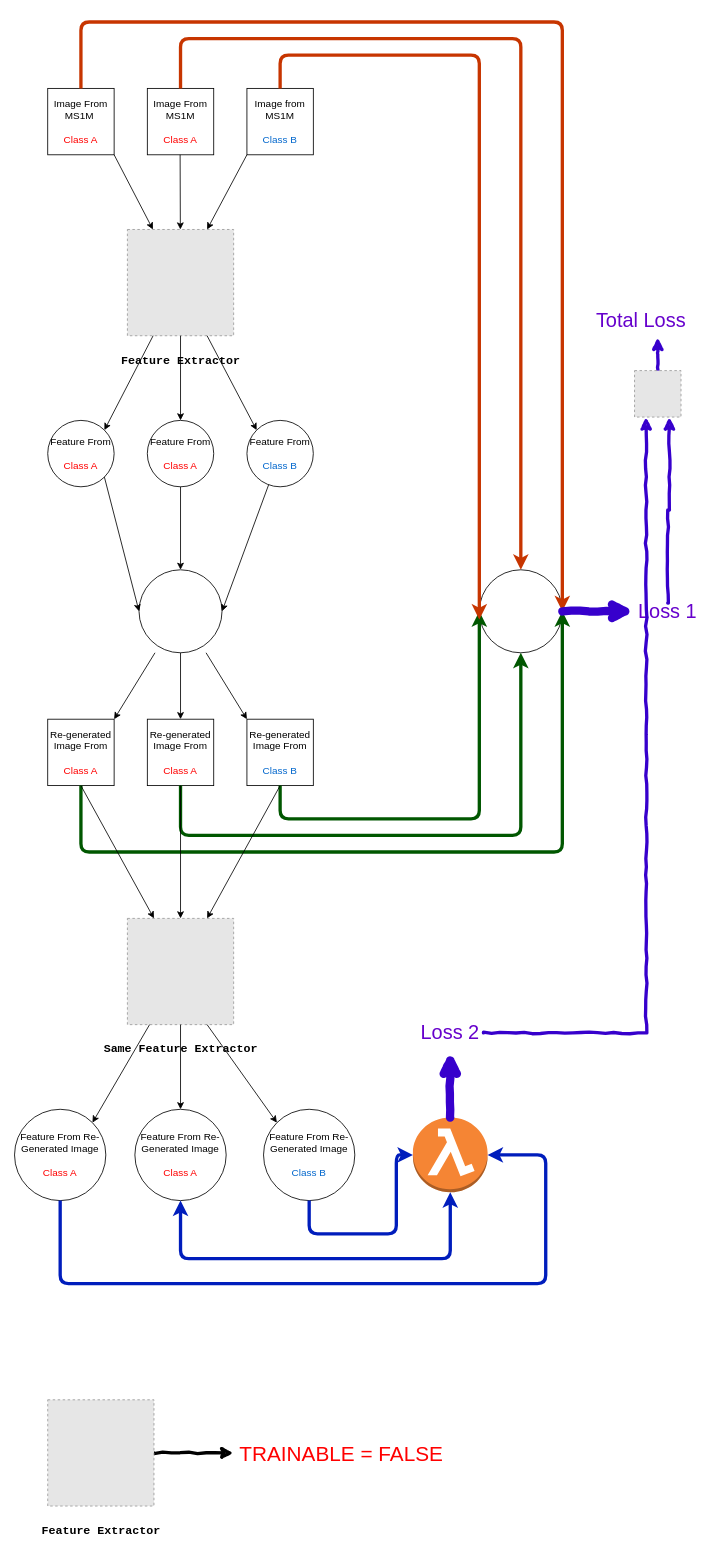
This 715x1564 diagram has some shape labels left out. Grey dashed boxes stand in for pictures. The shapes that lost their labels are listed below. From the top down, each one's centre as x and y in pixels, then its label:
At (x=180, y=611): "Generator".
At (x=520, y=611): "Discriminator".
At (x=450, y=1154): "Triplet Loss".
